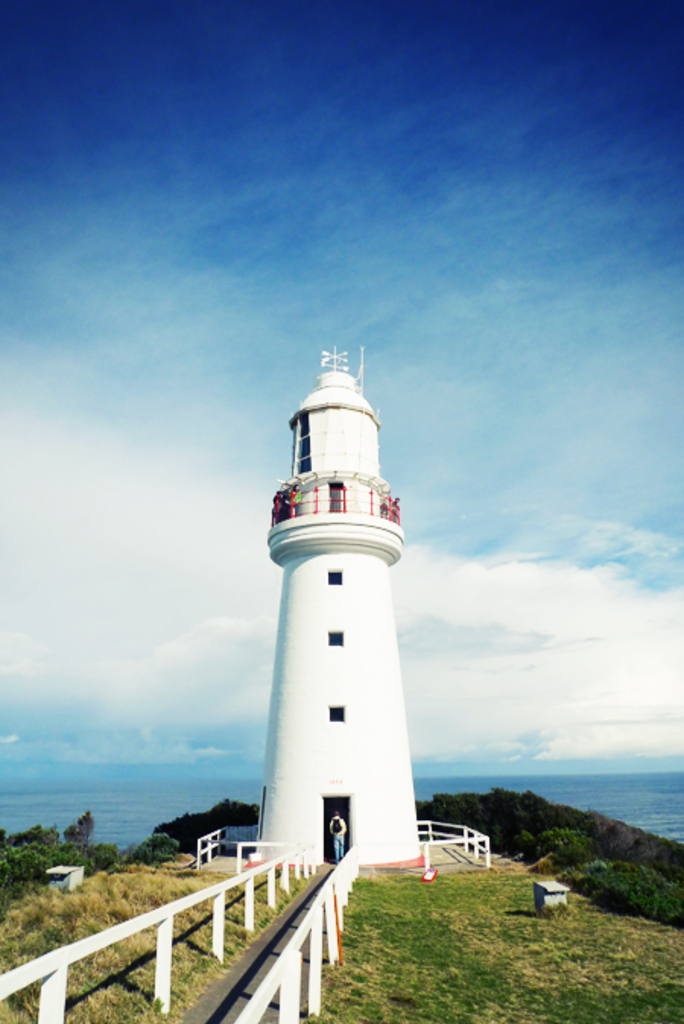Tree: (389, 780, 674, 928), (0, 823, 57, 902), (57, 805, 101, 850)
